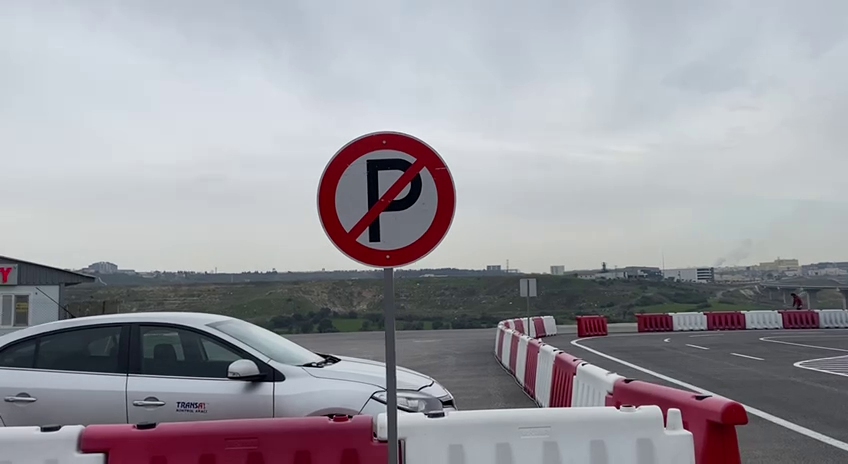noparking: (312, 122, 465, 271)
